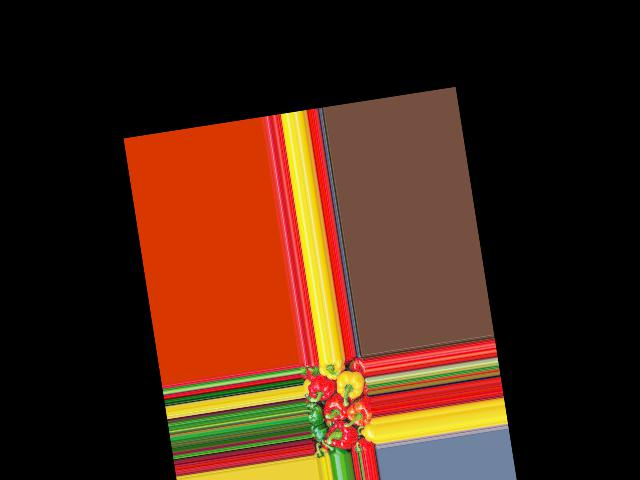bell_pepper: (361, 424, 376, 442)
